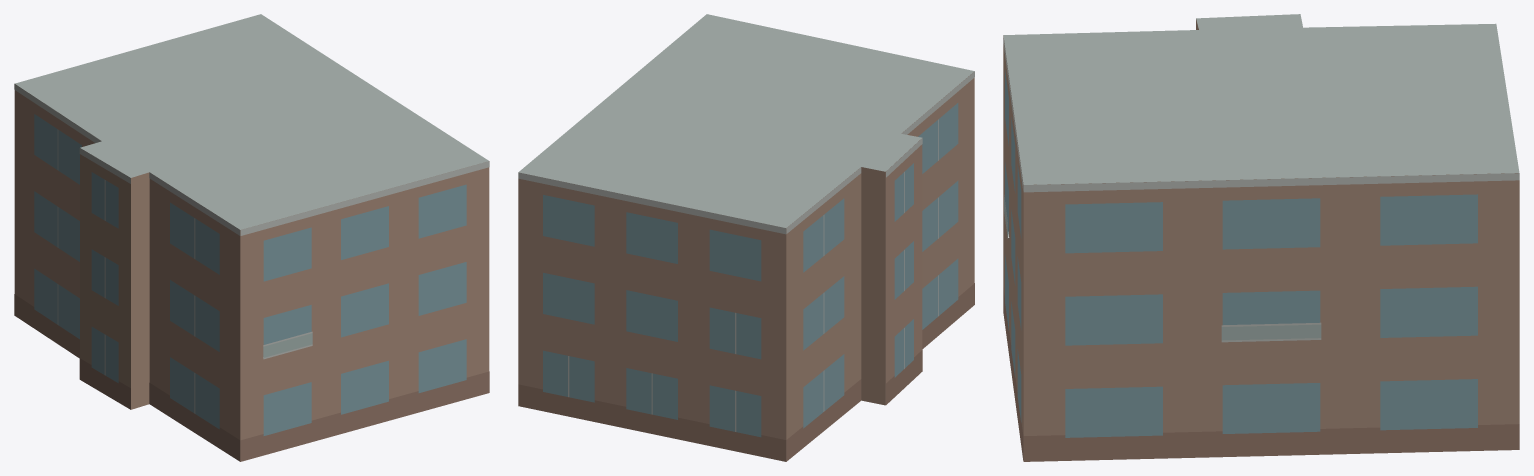
The model's file is survey-upis-32879824.glb.
3 renders of one model, left to right at view 1: azimuth 30°, elevation 25°; view 2: azimuth 150°, elevation 25°; view 3: azimuth 270°, elevation 25°, orthographic. The views are drawn at different scales.
Visible parts, largest first — view 1: survey-upis-32879824.tmp; view 2: survey-upis-32879824.tmp; view 3: survey-upis-32879824.tmp.
Part boxes in pixels (left/top/right/bottom): survey-upis-32879824.tmp: left=14, top=14, right=489, bottom=461; survey-upis-32879824.tmp: left=518, top=14, right=974, bottom=461; survey-upis-32879824.tmp: left=1003, top=14, right=1519, bottom=461.
Bounding box in the file's own units: 12.13 × 9.15 × 15.47.
